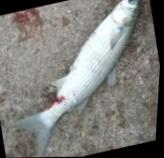fish: (9, 0, 142, 157)
